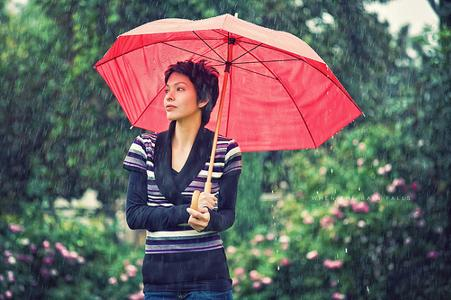person: (123, 59, 245, 300)
